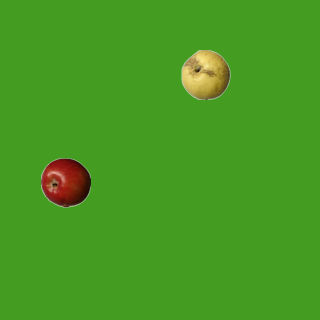Apple Braeburn: (40, 157, 90, 207)
Apple Golden 1: (180, 49, 230, 99)
